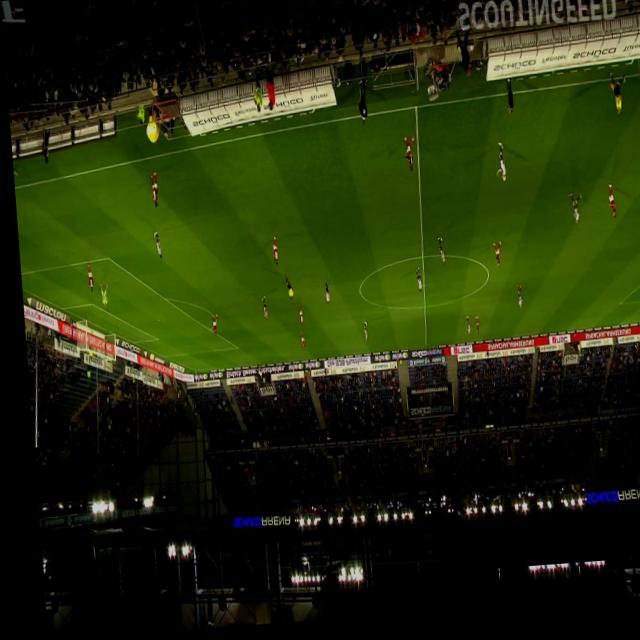goalkeeper: (94, 283, 105, 308)
player: (490, 148, 503, 189), (399, 141, 413, 177), (564, 200, 578, 233), (146, 173, 156, 210), (603, 192, 612, 227), (488, 248, 497, 274), (433, 242, 440, 271), (82, 264, 89, 292), (150, 233, 157, 261), (267, 238, 273, 268), (511, 291, 518, 316), (205, 315, 212, 338), (410, 272, 416, 298), (256, 299, 262, 323), (318, 284, 324, 308), (292, 308, 298, 330), (293, 334, 299, 354), (468, 321, 473, 342), (459, 322, 464, 342), (357, 326, 362, 346)
referee: (606, 80, 624, 126), (279, 279, 289, 305)
